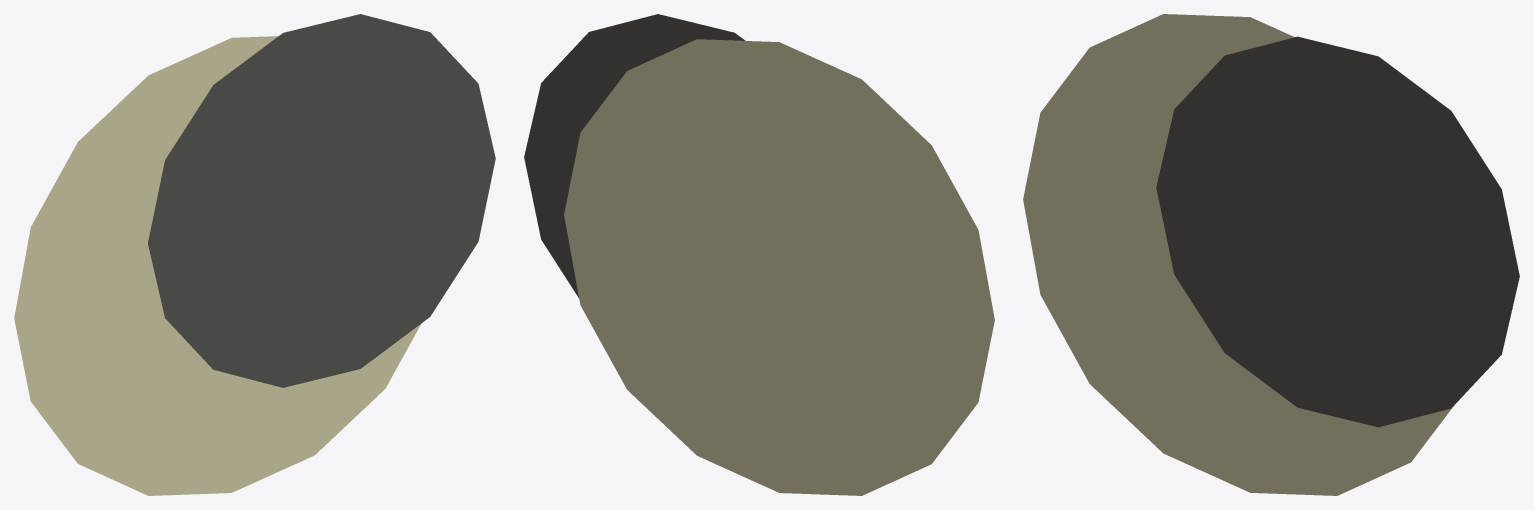
File: moon.glb
3 renders of one model, left to right at view 1: azimuth 30°, elevation 25°; view 2: azimuth 150°, elevation 25°; view 3: azimuth 330°, elevation 25°, orthographic. The views are drawn at different scales.
Parts seen in each view (by area): view 1: moon; view 2: moon; view 3: moon.
Boxes of the visible parts, <box> form: moon: <box>14,14,495,495</box>; moon: <box>524,14,994,495</box>; moon: <box>1023,14,1519,495</box>.
Size of the model in its own units: 0.88 by 0.8 by 0.01.
